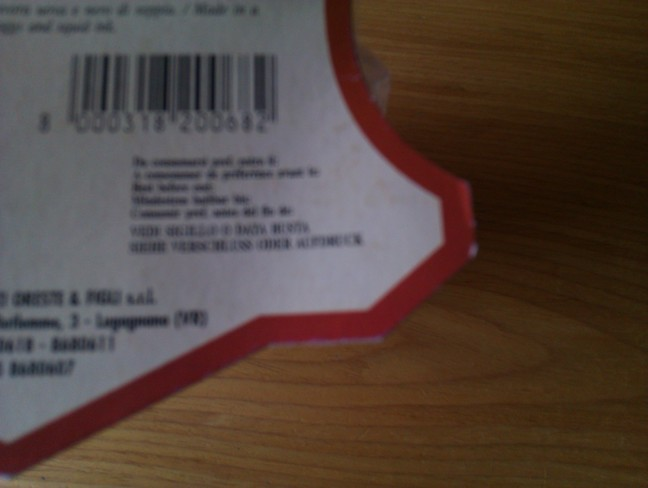barcode: (20, 47, 290, 144)
